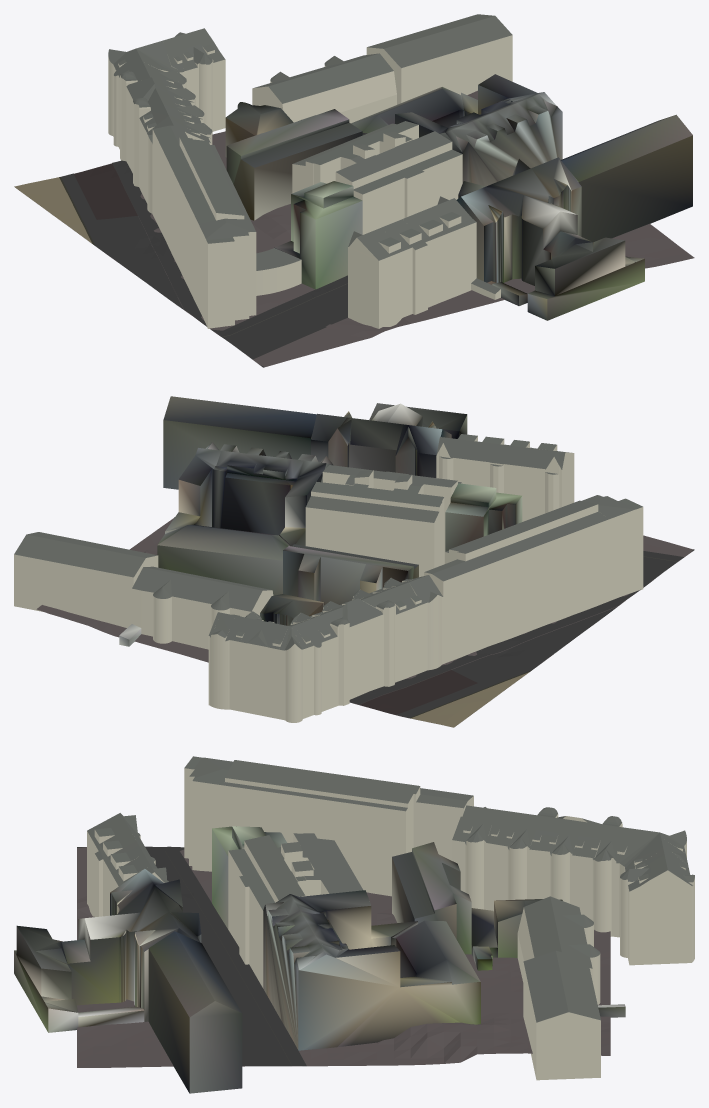
3 views of the same model, one above another, from view 1: azimuth 30°, elevation 25°; view 2: azimuth 150°, elevation 25°; view 3: azimuth 270°, elevation 25° (orthographic). The views are drawn at different scales.
Parts seen in each view (by area): view 1: c_m03_p10; view 2: c_m03_p10; view 3: c_m03_p10.
Part boxes in pixels (x1=…): c_m03_p10: x1=14, y1=14, x2=694, y2=367; c_m03_p10: x1=14, y1=396, x2=694, y2=727; c_m03_p10: x1=14, y1=756, x2=694, y2=1093.
Bounding box in the file's own units: 143 × 29.1 × 163.
